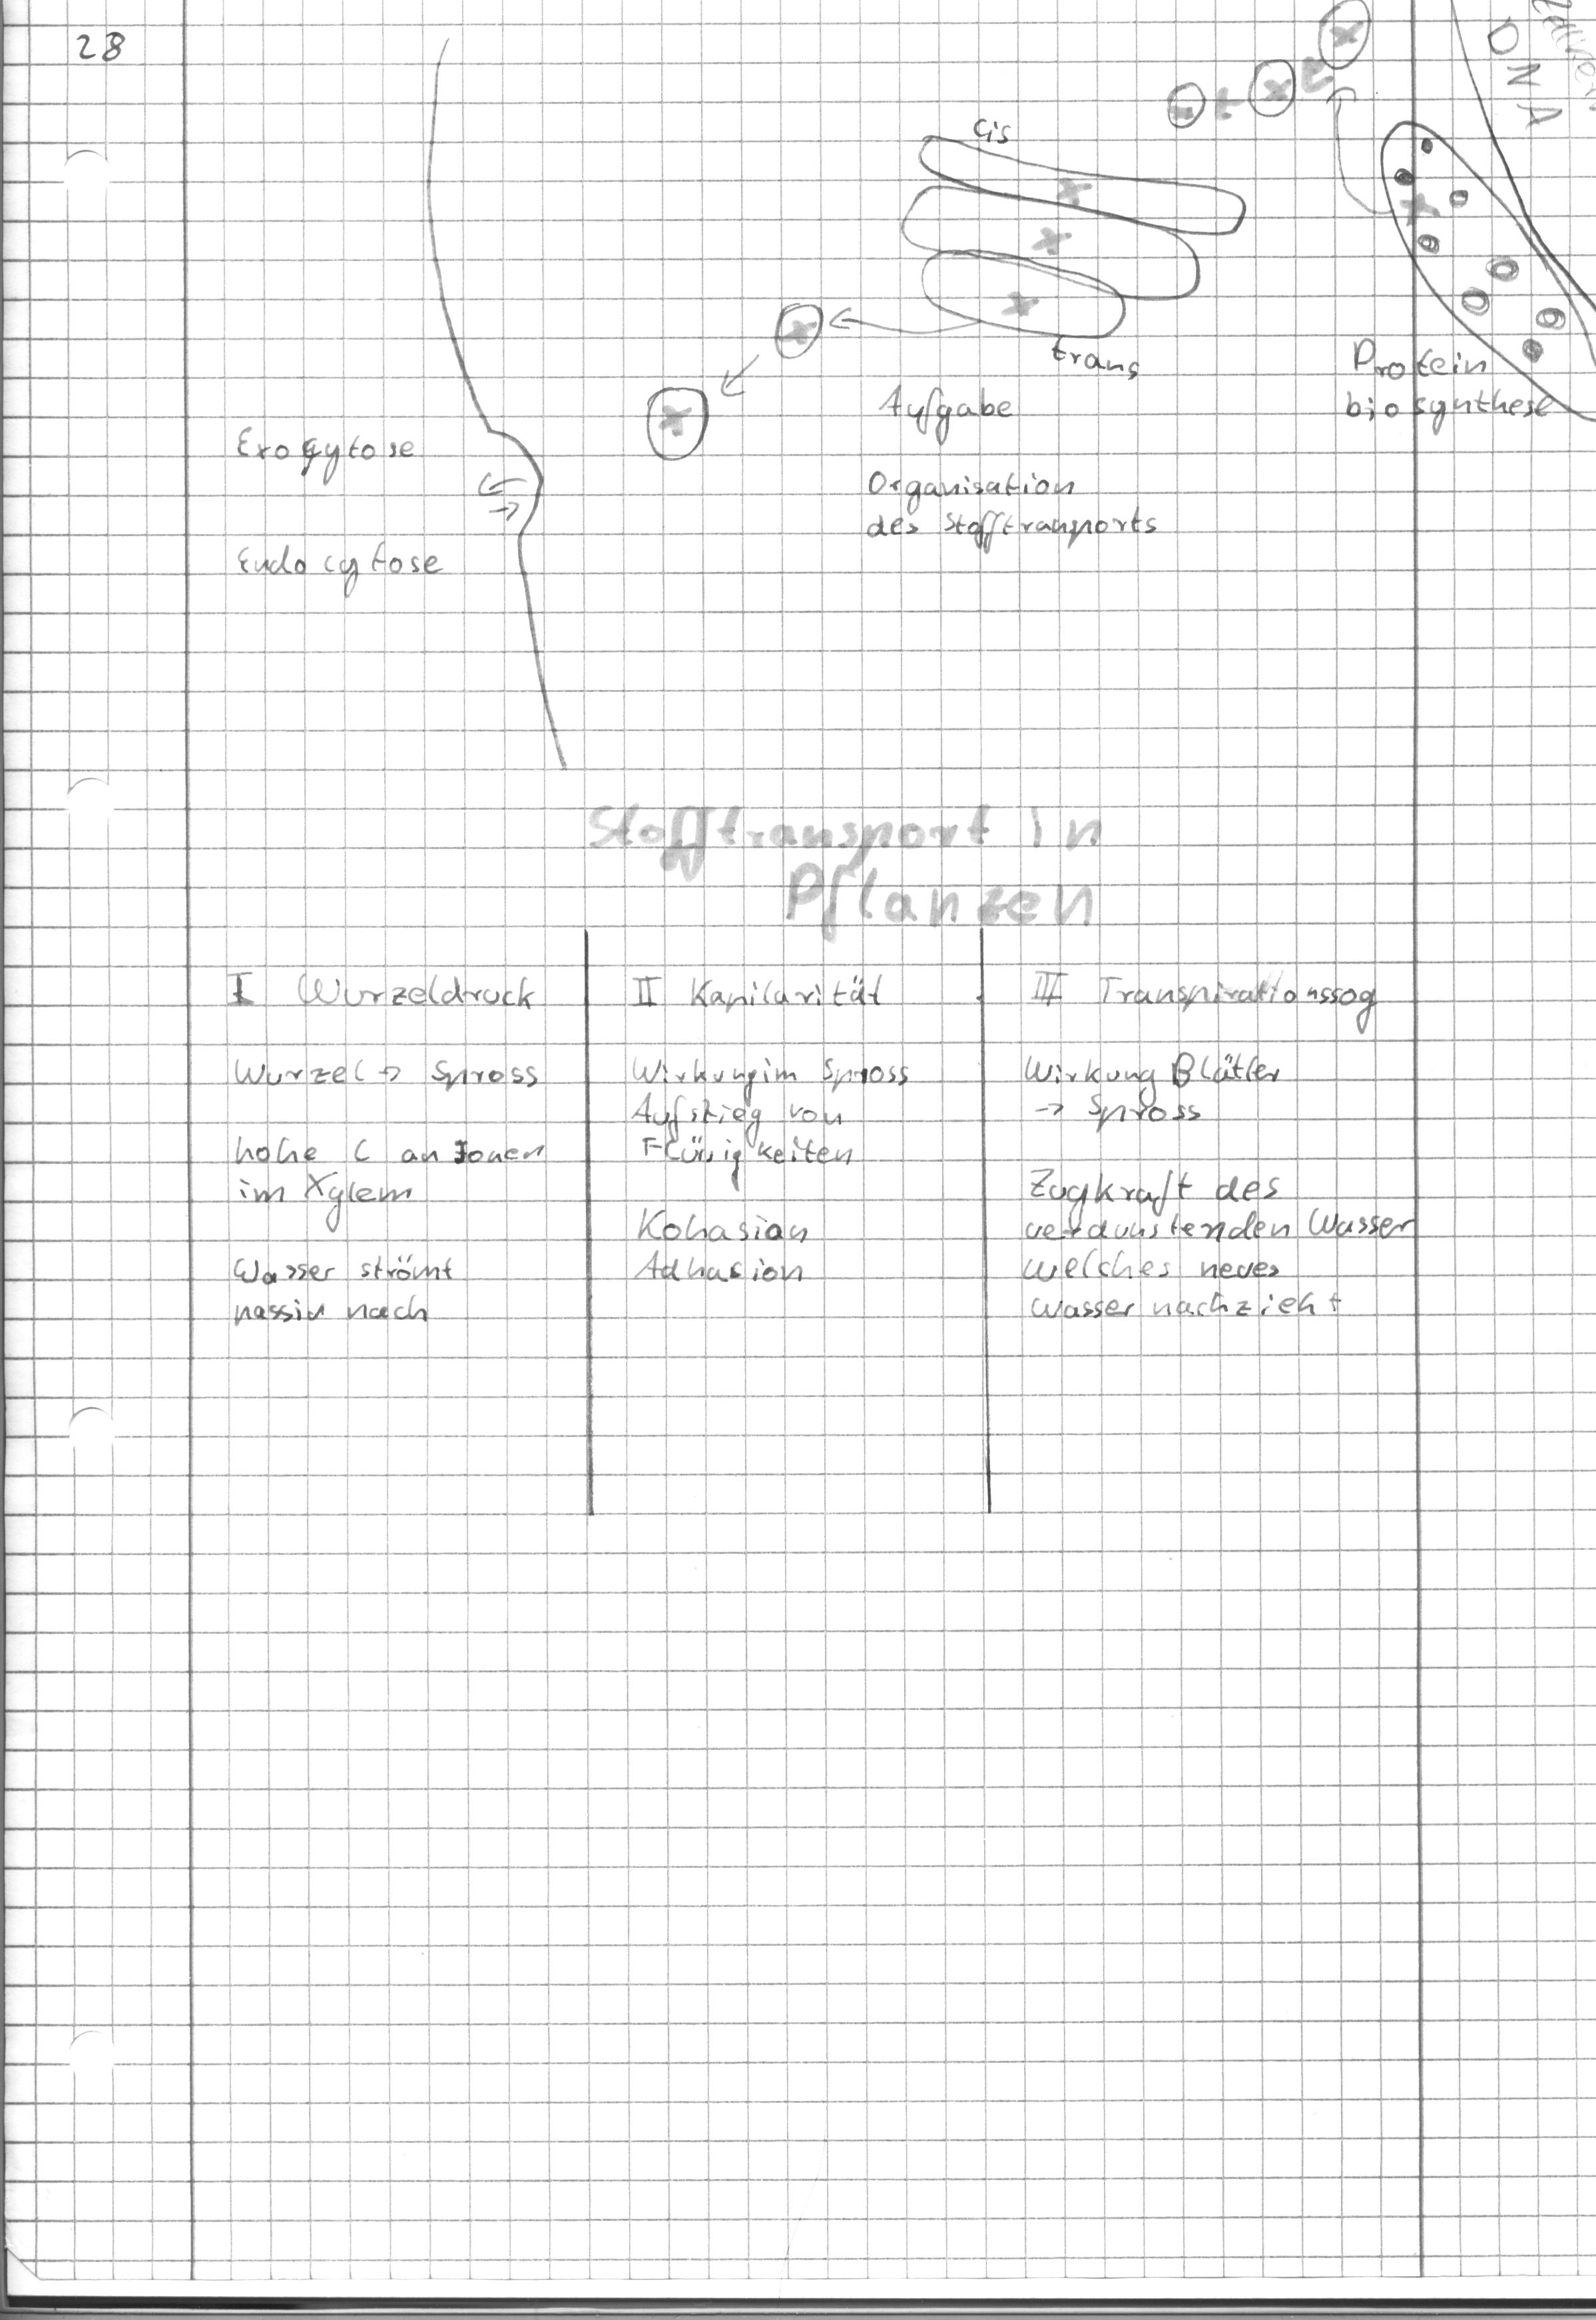word: (219, 962, 555, 1336), (1015, 1159, 1425, 1328), (628, 1046, 919, 1201), (856, 451, 1165, 575), (1326, 318, 1561, 448), (1021, 960, 1383, 1043), (1015, 1045, 1296, 1145), (622, 964, 914, 1042), (223, 517, 452, 609), (633, 1203, 824, 1302), (221, 407, 433, 494), (872, 368, 1033, 454), (1041, 318, 1163, 400)
